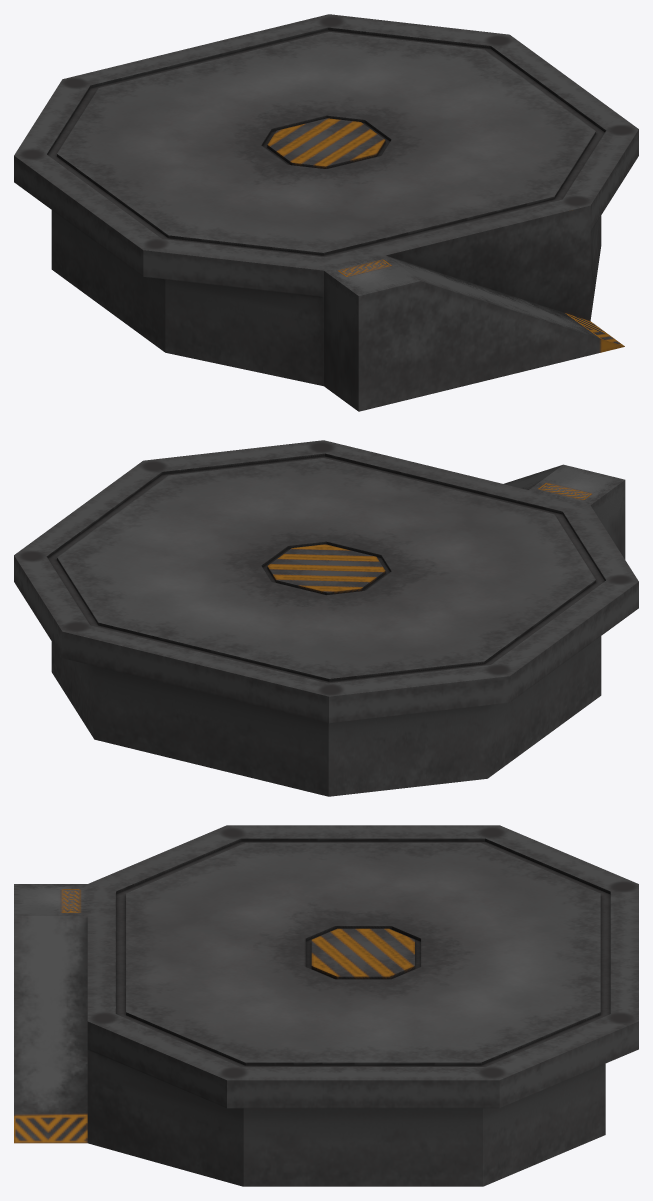
Rendered from PlatformNoLights.fbx.
3 views of the same model, one above another, from view 1: azimuth 30°, elevation 25°; view 2: azimuth 150°, elevation 25°; view 3: azimuth 270°, elevation 25° (orthographic). The views are drawn at different scales.
Visible parts, largest first — view 1: Platform; view 2: Platform; view 3: Platform.
Boxes of the visible parts, x1,y1,x2,y2 form: Platform: (14,14,638,411); Platform: (14,440,638,796); Platform: (14,825,638,1186).
Size of the model in its own units: 1230 by 274 by 1273.
